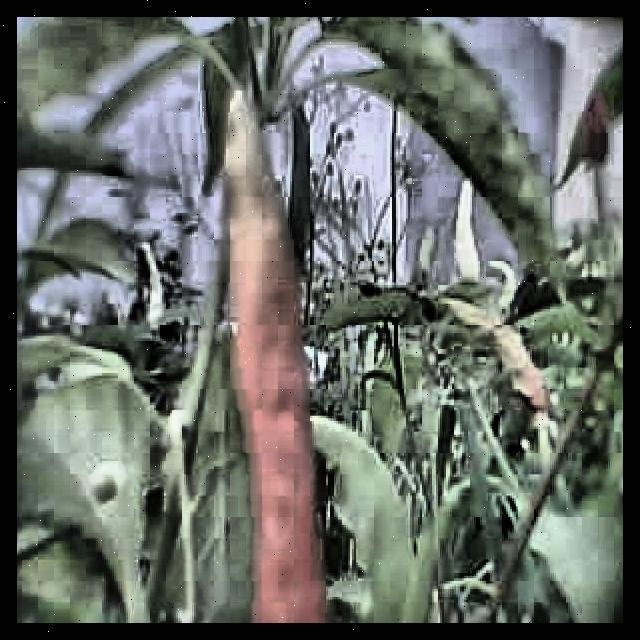Cabai: (220, 94, 334, 623)
